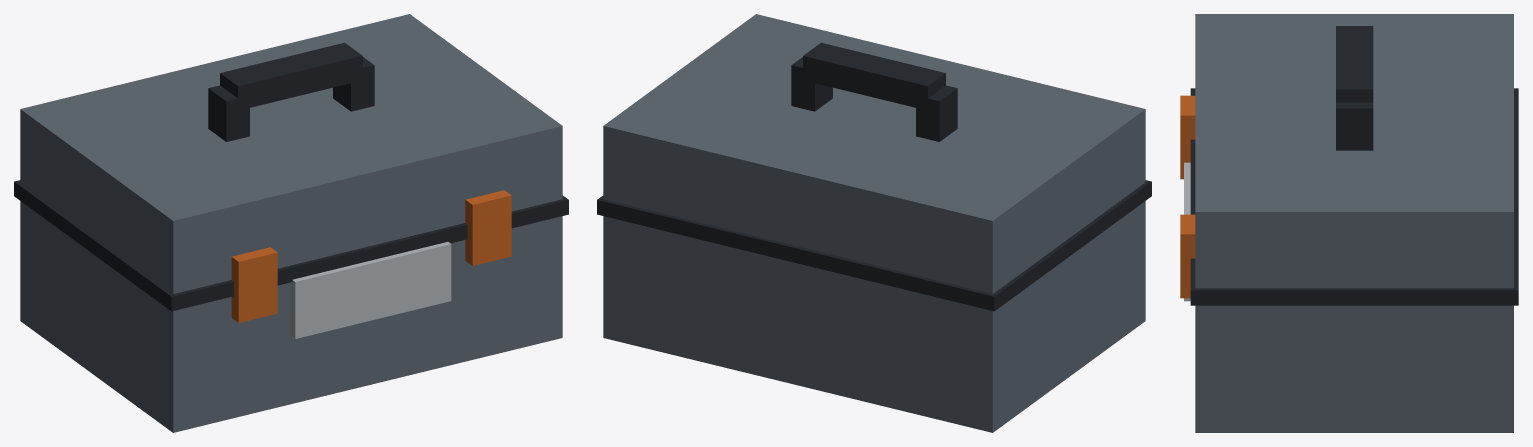
The model's file is kit-case.glb.
3 views of the same model, side by side, from view 1: azimuth 30°, elevation 25°; view 2: azimuth 150°, elevation 25°; view 3: azimuth 270°, elevation 25° (orthographic). The views are drawn at different scales.
Parts seen in each view (by area): view 1: kit-case; view 2: kit-case; view 3: kit-case.
Boxes of the visible parts, box(x1,y1,x2,y2) form: kit-case: box(14, 14, 568, 432); kit-case: box(597, 14, 1151, 432); kit-case: box(1180, 14, 1518, 432).
Size of the model in its own units: 0.51 by 0.325 by 0.361.
